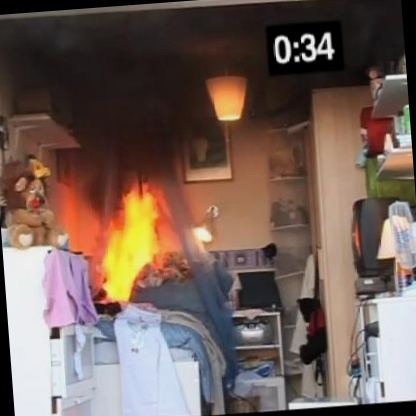fire: (69, 167, 185, 305)
